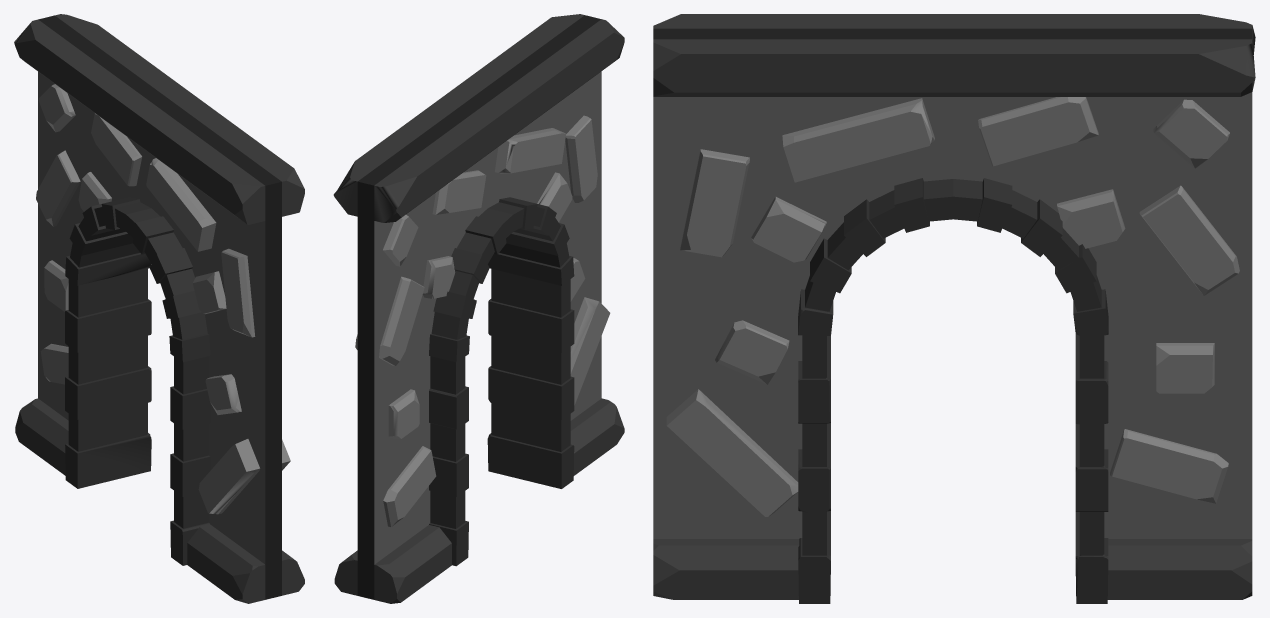
The model's file is DungeonDoorFrame.glb.
3 views of the same model, side by side, from view 1: azimuth 30°, elevation 25°; view 2: azimuth 150°, elevation 25°; view 3: azimuth 270°, elevation 25° (orthographic). The views are drawn at different scales.
Parts seen in each view (by area): view 1: Cube.001; view 2: Cube.001; view 3: Cube.001.
Boxes of the visible parts, x1,y1,x2,y2 form: Cube.001: (14, 14, 304, 603); Cube.001: (333, 14, 624, 603); Cube.001: (653, 14, 1255, 603).
Size of the model in its own units: 0.3753 by 2 by 2.
1 material, 1 textured.
